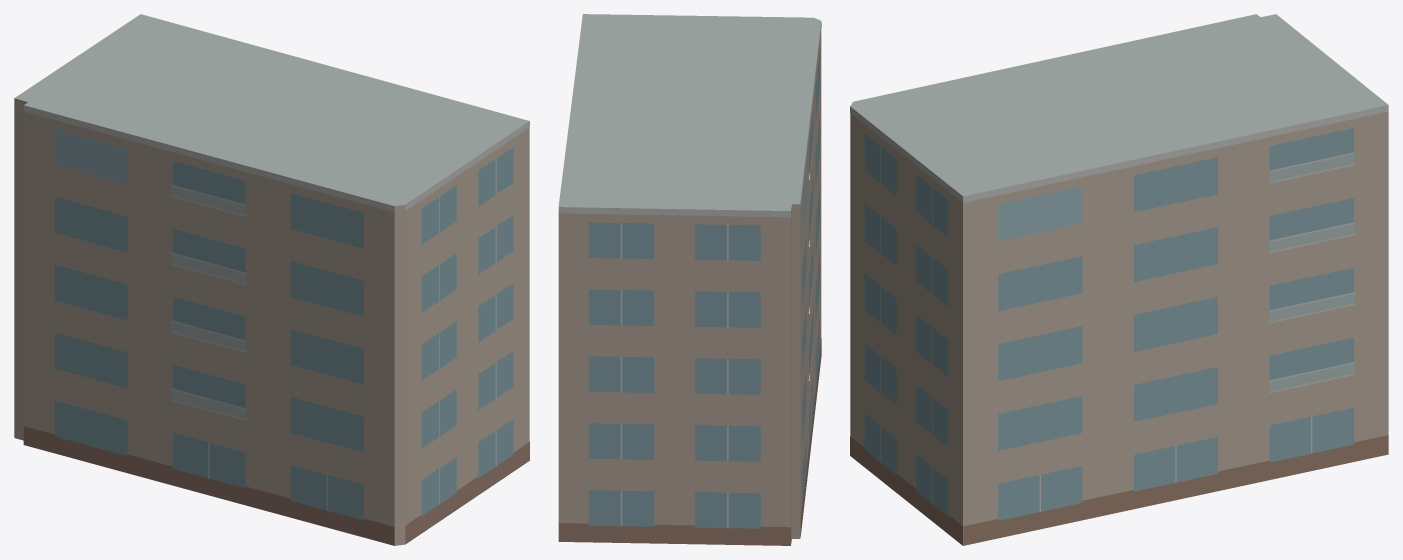
The model's file is survey-upis-33010366.glb.
3 views of the same model, side by side, from view 1: azimuth 30°, elevation 25°; view 2: azimuth 150°, elevation 25°; view 3: azimuth 270°, elevation 25° (orthographic). The views are drawn at different scales.
Parts seen in each view (by area): view 1: survey-upis-33010366.tmp; view 2: survey-upis-33010366.tmp; view 3: survey-upis-33010366.tmp.
Boxes of the visible parts, <box> form: survey-upis-33010366.tmp: <box>14,14,529,545</box>; survey-upis-33010366.tmp: <box>558,14,821,545</box>; survey-upis-33010366.tmp: <box>850,14,1388,545</box>.
Bounding box in the file's own units: 14.67 × 13.1 × 18.3.
